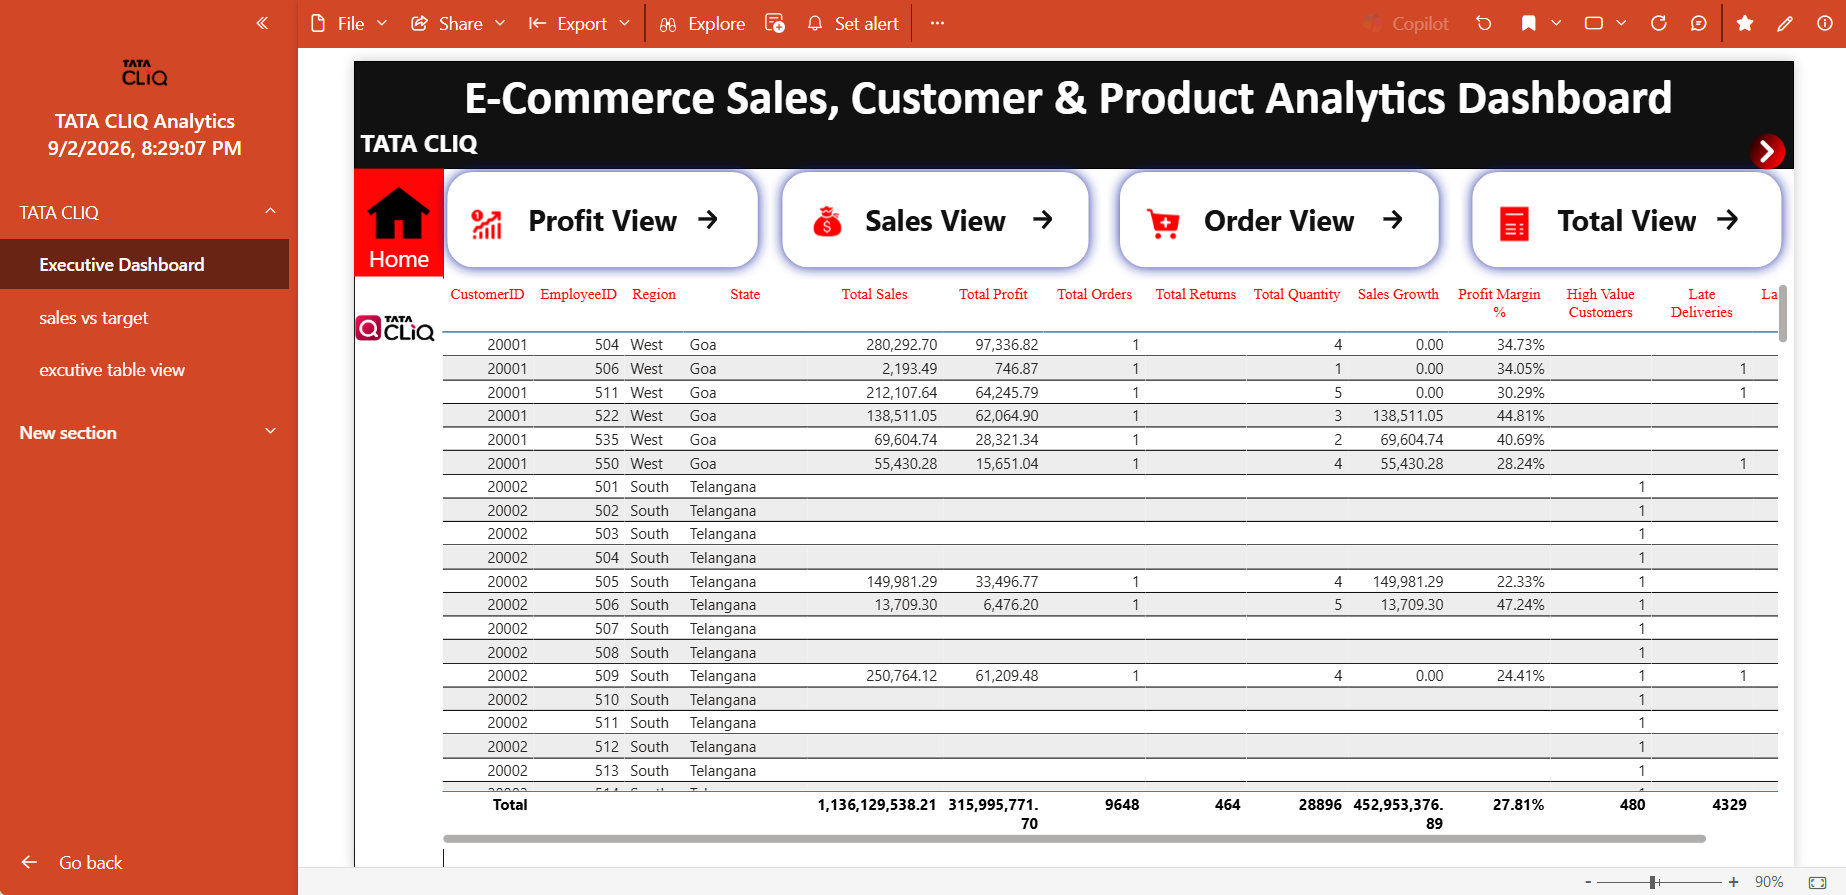

This screenshot's page, from the dashboard's own definition file:
{"tool":"powerbi","page":{"name":"excutive table view","canvas":[1280,720],"ordinal":2},"visuals":[{"type":"tableEx","fields":{"Values":["DimCustomer.CustomerID","DimCustomer.CustomerName","DimProduct.ProductID","DimProduct.ProductName","DimStore.State","DimStore.StoreID","FactSales.Total Sales","FactSales.Total Quantity","FactSales.Total Returns","FactSales.Total Orders","FactSales.Total Profit","FactSales.Total Cost"]},"box":[0,0,1280,720],"z":0}]}

Visuals, with their boxes on the page's 1280x720 design canvas (x1, y1, x2, y2). These are canvas units, not pixel positions in the 1846x895 screenshot, which may show the page scaled, cropped or inside an application window:
tableEx - DimCustomer.CustomerID x DimCustomer.CustomerName: pyautogui.locateOnScreen(0, 0, 1280, 720)
